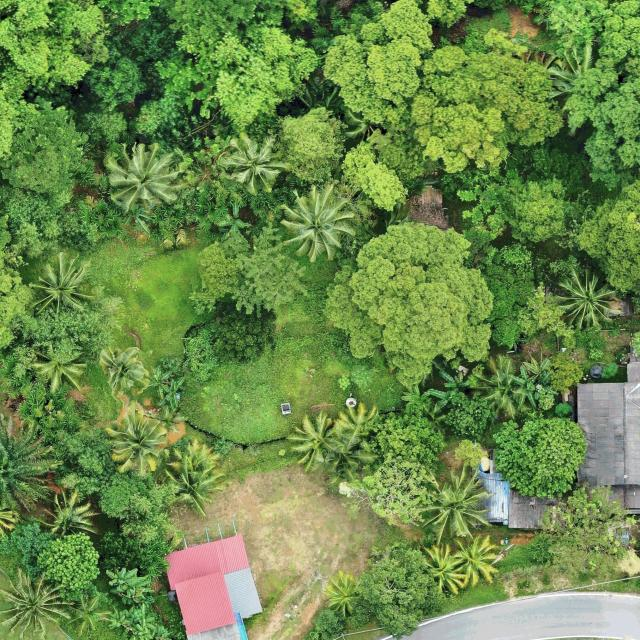Tree: (323, 218, 494, 392), (408, 26, 566, 177), (323, 0, 434, 124), (188, 222, 306, 315), (457, 167, 570, 254), (539, 486, 635, 576), (492, 414, 588, 502), (358, 541, 442, 639), (575, 178, 640, 302), (182, 306, 278, 384), (410, 463, 492, 546), (344, 455, 438, 527), (276, 183, 356, 265), (0, 414, 64, 512), (341, 126, 409, 211), (277, 104, 346, 184), (105, 141, 180, 210), (162, 442, 230, 518), (0, 567, 70, 640), (366, 403, 446, 463), (104, 408, 168, 478), (225, 133, 292, 196), (554, 266, 616, 328), (28, 253, 90, 314), (41, 532, 100, 596), (285, 410, 344, 474), (468, 354, 526, 418), (32, 486, 98, 541), (31, 338, 88, 393), (452, 532, 502, 587), (445, 391, 499, 440), (418, 542, 466, 597), (98, 345, 147, 396), (66, 592, 113, 636), (322, 570, 365, 617), (104, 568, 156, 604), (523, 359, 557, 399), (508, 365, 536, 408), (157, 376, 186, 411), (438, 368, 471, 397), (147, 366, 174, 398), (426, 386, 458, 412), (128, 604, 157, 630), (400, 386, 430, 408), (125, 623, 155, 640), (108, 607, 130, 629)
